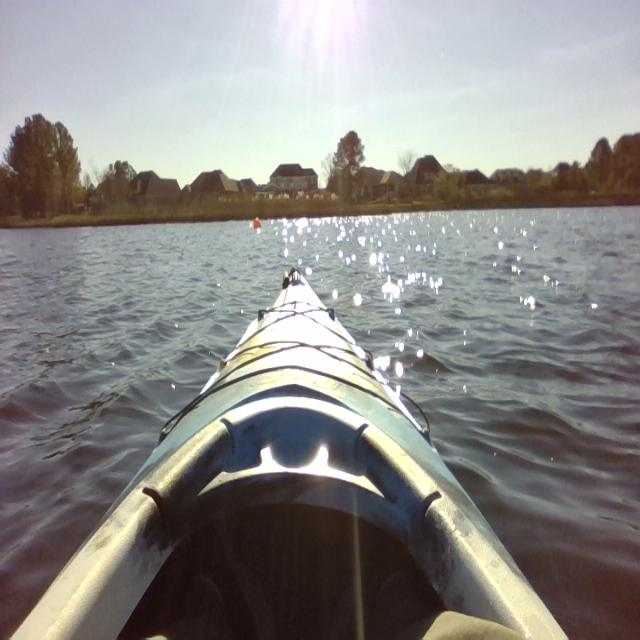Buoy: (252, 210, 263, 233)
